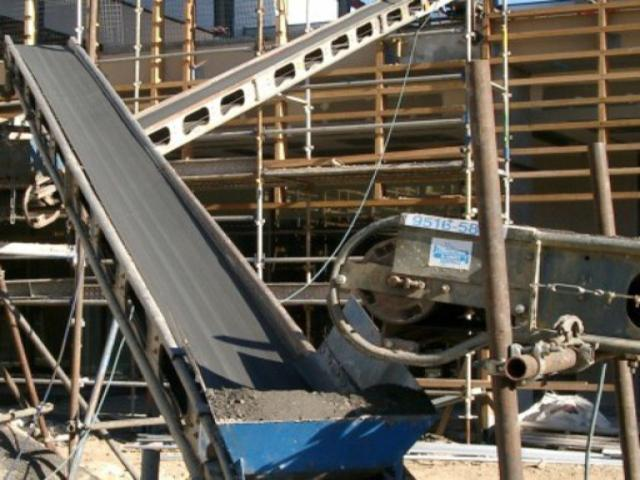conveyor: (0, 32, 442, 479)
